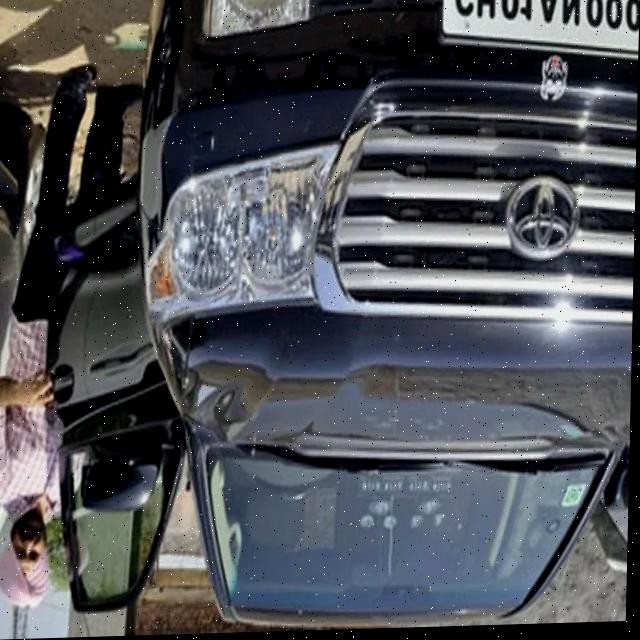plate: (438, 0, 640, 75)
